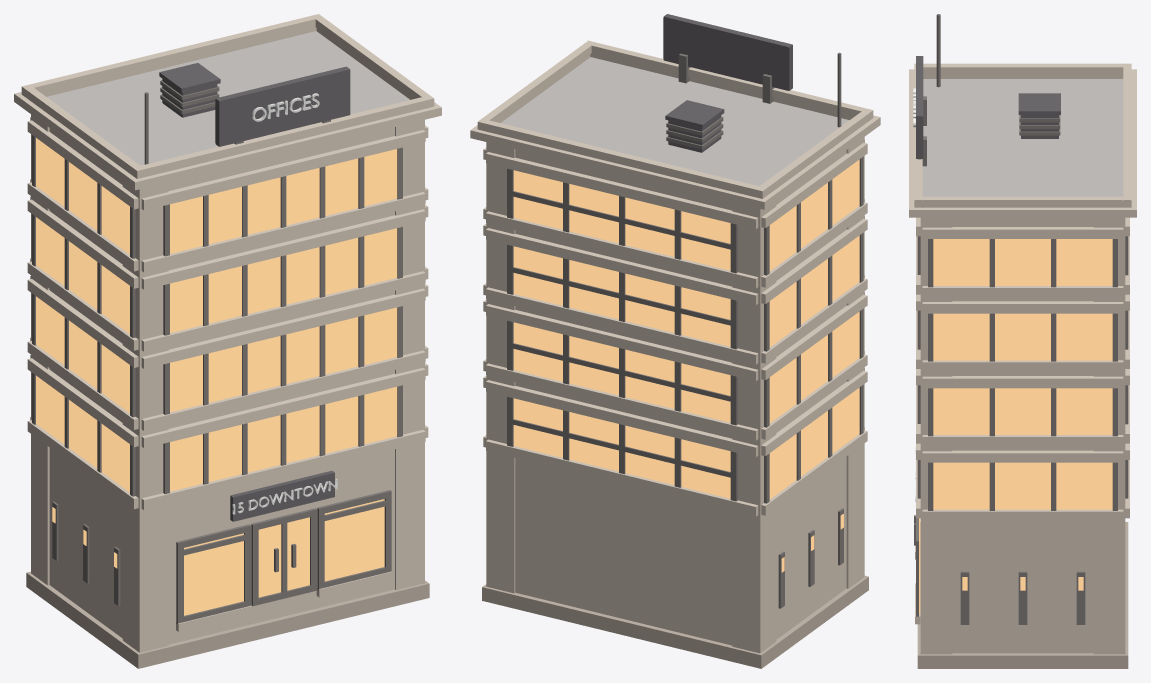
The model's file is 32-offices-downtown.glb.
3 renders of one model, left to right at view 1: azimuth 30°, elevation 25°; view 2: azimuth 150°, elevation 25°; view 3: azimuth 270°, elevation 25°, orthographic. The views are drawn at different scales.
Visible parts, largest first — view 1: Core, RoofDeck, Column, B0F_Glow, B1F_Glow, B3F_Glow, B2F_Glow, Column.002, Base, OfficesPlaque, B3SL_Glow, B0SL_Glow (+38 smaller); view 2: Core, RoofDeck, Column.001, Column.003, B1R_Glow, B2R_Glow, B0R_Glow, B3R_Glow, Base, OfficesPlaque, B3SL_Glow, B0SL_Glow (+28 smaller); view 3: RoofDeck, Core, B0SR_Glow, B2SR_Glow, B1SR_Glow, B3SR_Glow, Column.002, Column.003, Base, B1SR_Head, B0SR_Head, B2SR_Head (+20 smaller).
Boxes of the visible parts, left/top/right/bottom form: Core: left=49, top=127, right=394, bottom=644; RoofDeck: left=47, top=31, right=409, bottom=165; Column: left=122, top=181, right=168, bottom=652; B0F_Glow: left=170, top=387, right=397, bottom=491; B1F_Glow: left=170, top=307, right=397, bottom=412; B3F_Glow: left=170, top=149, right=397, bottom=253; B2F_Glow: left=170, top=228, right=397, bottom=332; Column.002: left=395, top=120, right=424, bottom=589; Base: left=26, top=571, right=429, bottom=668; OfficesPlaque: left=215, top=66, right=350, bottom=146; B3SL_Glow: left=36, top=138, right=129, bottom=254; B0SL_Glow: left=36, top=375, right=129, bottom=492; Core: left=515, top=149, right=846, bottom=645; RoofDeck: left=501, top=57, right=849, bottom=186; Column.001: left=732, top=202, right=776, bottom=653; Column.003: left=486, top=142, right=515, bottom=593; B1R_Glow: left=513, top=322, right=730, bottom=422; B2R_Glow: left=513, top=246, right=730, bottom=346; B0R_Glow: left=513, top=398, right=730, bottom=498; B3R_Glow: left=513, top=170, right=730, bottom=270; Base: left=482, top=575, right=868, bottom=668; OfficesPlaque: left=663, top=14, right=792, bottom=90; B3SL_Glow: left=769, top=159, right=859, bottom=271; B0SL_Glow: left=769, top=387, right=859, bottom=499; RoofDeck: left=922, top=79, right=1123, bottom=196; Core: left=952, top=217, right=1093, bottom=653; B0SR_Glow: left=933, top=462, right=1112, bottom=509; B2SR_Glow: left=933, top=313, right=1112, bottom=360; B1SR_Glow: left=933, top=388, right=1112, bottom=434; B3SR_Glow: left=933, top=239, right=1112, bottom=285; Column.002: left=920, top=217, right=952, bottom=654; Column.003: left=1093, top=217, right=1125, bottom=654; Base: left=917, top=522, right=1128, bottom=668; B1SR_Head: left=922, top=376, right=1123, bottom=388; B0SR_Head: left=922, top=450, right=1123, bottom=462; B2SR_Head: left=922, top=301, right=1123, bottom=313.
Size of the model in its own units: 3.16 by 5.54 by 2.16.
